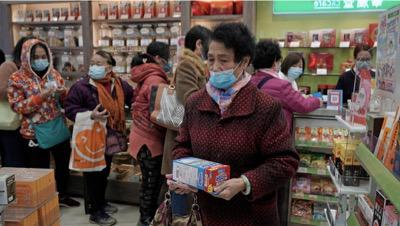mask_weared_incorrect: (206, 51, 238, 89)
with_mask: (87, 60, 107, 81), (27, 53, 48, 71), (286, 62, 302, 80), (356, 54, 372, 71), (159, 53, 171, 72)
